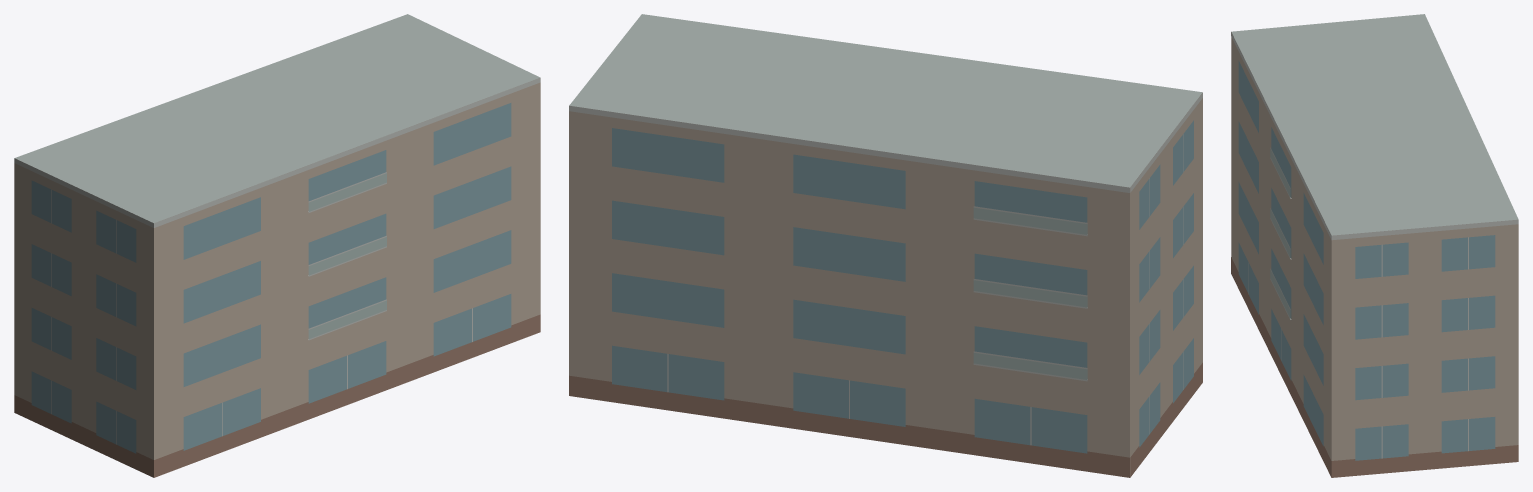
File: survey-upis-32633483.glb
3 renders of one model, left to right at view 1: azimuth 30°, elevation 25°; view 2: azimuth 150°, elevation 25°; view 3: azimuth 270°, elevation 25°, orthographic. The views are drawn at different scales.
Visible parts, largest first — view 1: survey-upis-32633483.tmp; view 2: survey-upis-32633483.tmp; view 3: survey-upis-32633483.tmp.
Part boxes in pixels (x1,y1,x2,y2): survey-upis-32633483.tmp: (14,14,540,477); survey-upis-32633483.tmp: (569,14,1202,477); survey-upis-32633483.tmp: (1231,14,1518,477).
Size of the model in its own units: 25.12 by 12.8 by 13.77.
